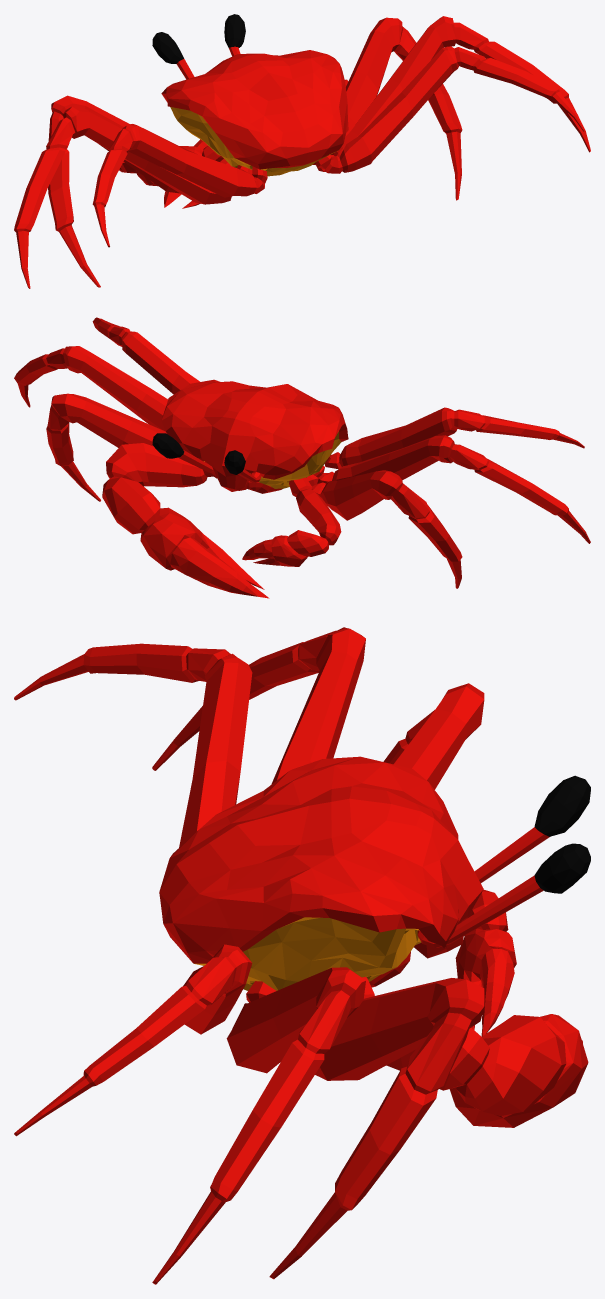
Rendered from CRAB.fbx.
3 views of the same model, one above another, from view 1: azimuth 30°, elevation 25°; view 2: azimuth 150°, elevation 25°; view 3: azimuth 270°, elevation 25° (orthographic). The views are drawn at different scales.
Visible parts, largest first — view 1: Crab_Crab_M_0; view 2: Crab_Crab_M_0; view 3: Crab_Crab_M_0.
Boxes of the visible parts, x1,y1,x2,y2 form: Crab_Crab_M_0: (14,14,590,288); Crab_Crab_M_0: (14,317,590,598); Crab_Crab_M_0: (14,627,590,1284).
Bounding box in the file's own units: 6636 × 1892 × 3127.
